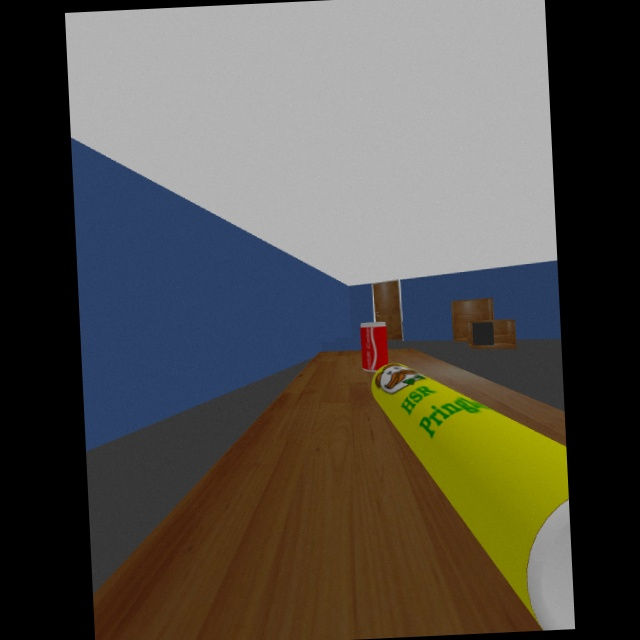chipsdose_gelb: (370, 363, 576, 631)
